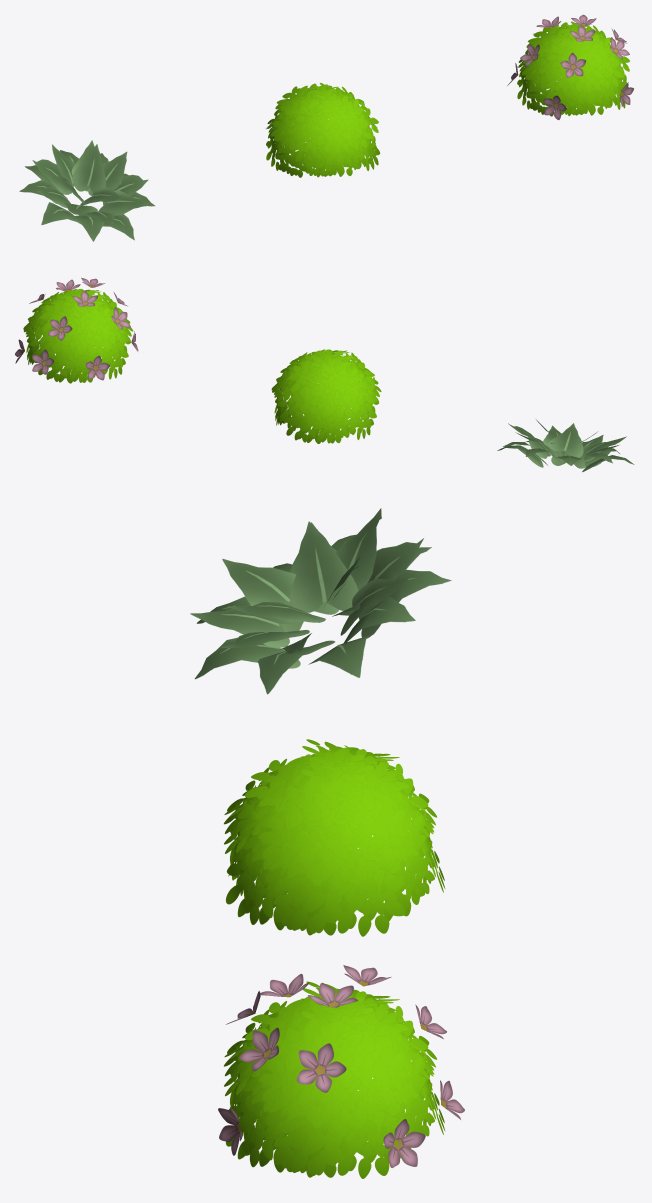
File: arbuste_bush.glb
The picture shows the model from 3 angles, top to bottom: view 1: azimuth 30°, elevation 25°; view 2: azimuth 150°, elevation 25°; view 3: azimuth 270°, elevation 25°; orthographic projection. The views are drawn at different scales.
Visible parts, largest first — view 1: Bush_Flowers, Bush, Plant_1; view 2: Bush_Flowers, Bush, Plant_1; view 3: Bush_Flowers, Bush, Plant_1.
Boxes of the visible parts, x1,y1,x2,y2 form: Bush_Flowers: (507, 14, 633, 119); Bush: (266, 82, 380, 177); Plant_1: (19, 140, 154, 241); Bush_Flowers: (15, 278, 138, 383); Bush: (271, 349, 381, 443); Plant_1: (497, 419, 634, 471); Bush_Flowers: (218, 965, 464, 1178); Bush: (224, 739, 445, 936); Plant_1: (190, 508, 451, 694).
Size of the model in its own units: 6.03 by 0.7975 by 1.23.
2 materials, 2 textured.
